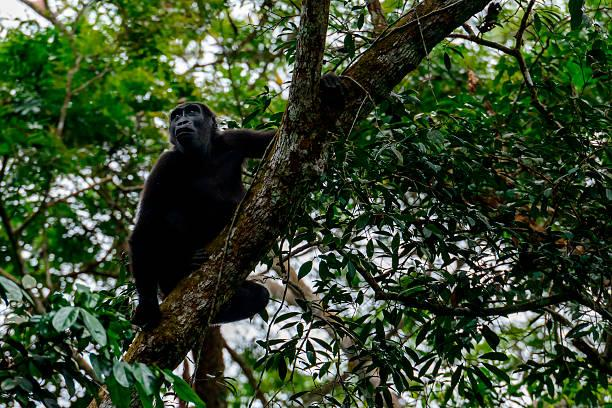gorille_Autres: (100, 57, 275, 317)
